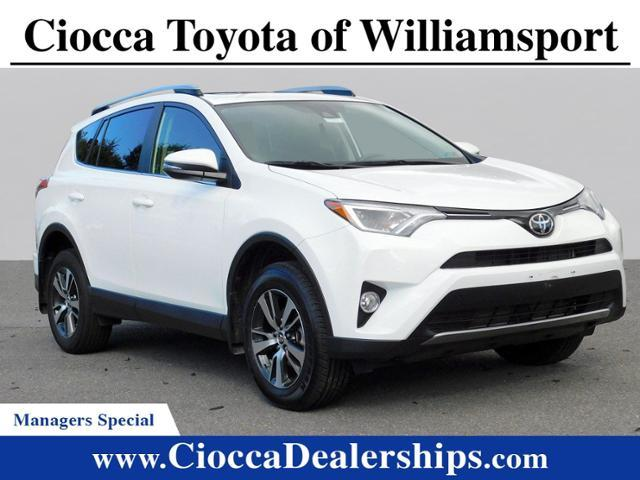Toyota RAV-4: (32, 91, 628, 412)
